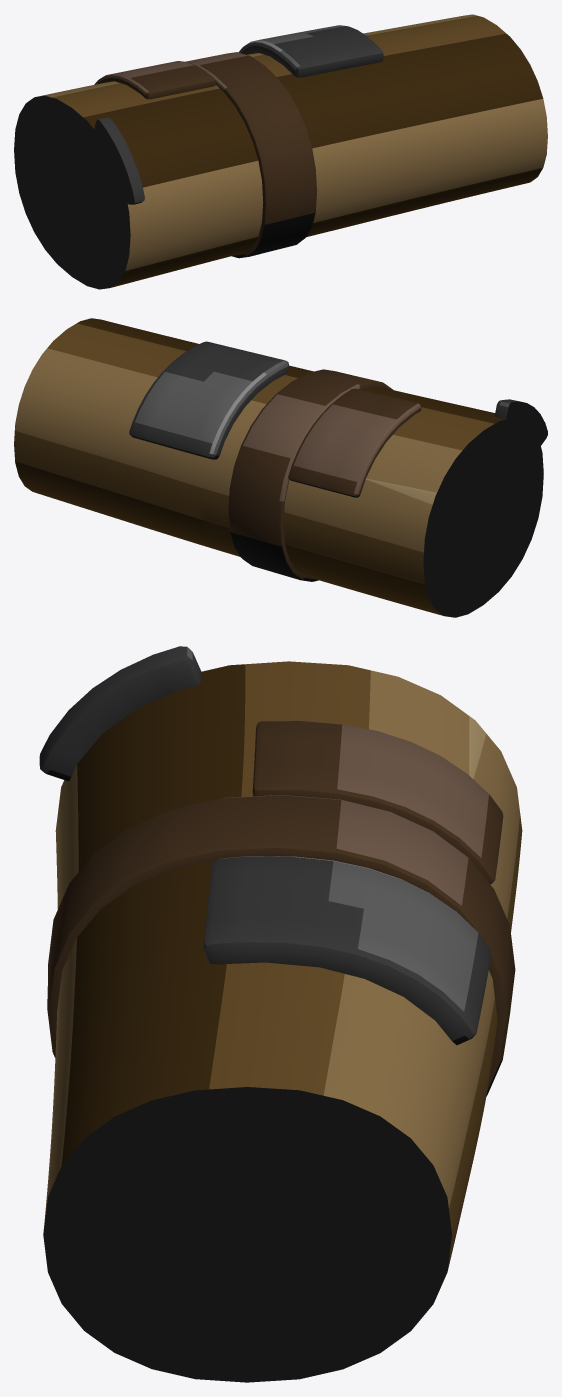
File: tusk_arm_a_159.glb
3 views of the same model, one above another, from view 1: azimuth 30°, elevation 25°; view 2: azimuth 150°, elevation 25°; view 3: azimuth 270°, elevation 25° (orthographic). The views are drawn at different scales.
Visible parts, largest first — view 1: tusk_arm_a_159; view 2: tusk_arm_a_159; view 3: tusk_arm_a_159.
Boxes of the visible parts, <box> form: tusk_arm_a_159: <box>14,14,547,289</box>; tusk_arm_a_159: <box>14,318,547,617</box>; tusk_arm_a_159: <box>39,646,522,1382</box>.
Size of the model in its own units: 24 by 9.84 by 12.11.
